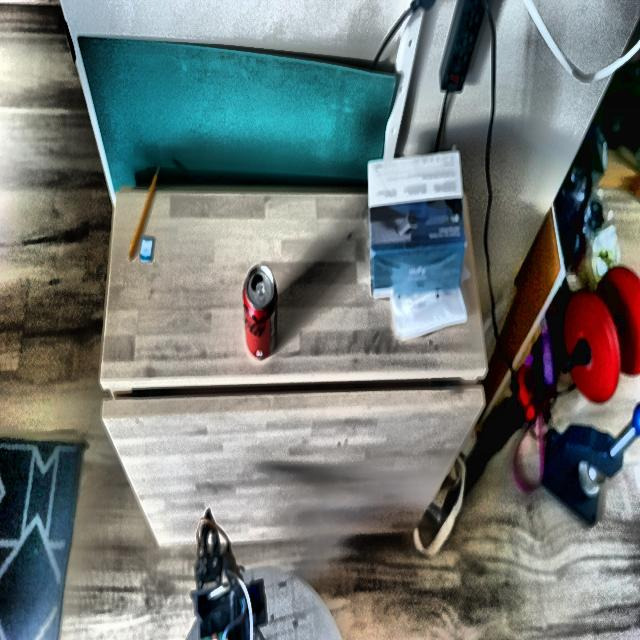Can: (244, 267, 276, 358)
